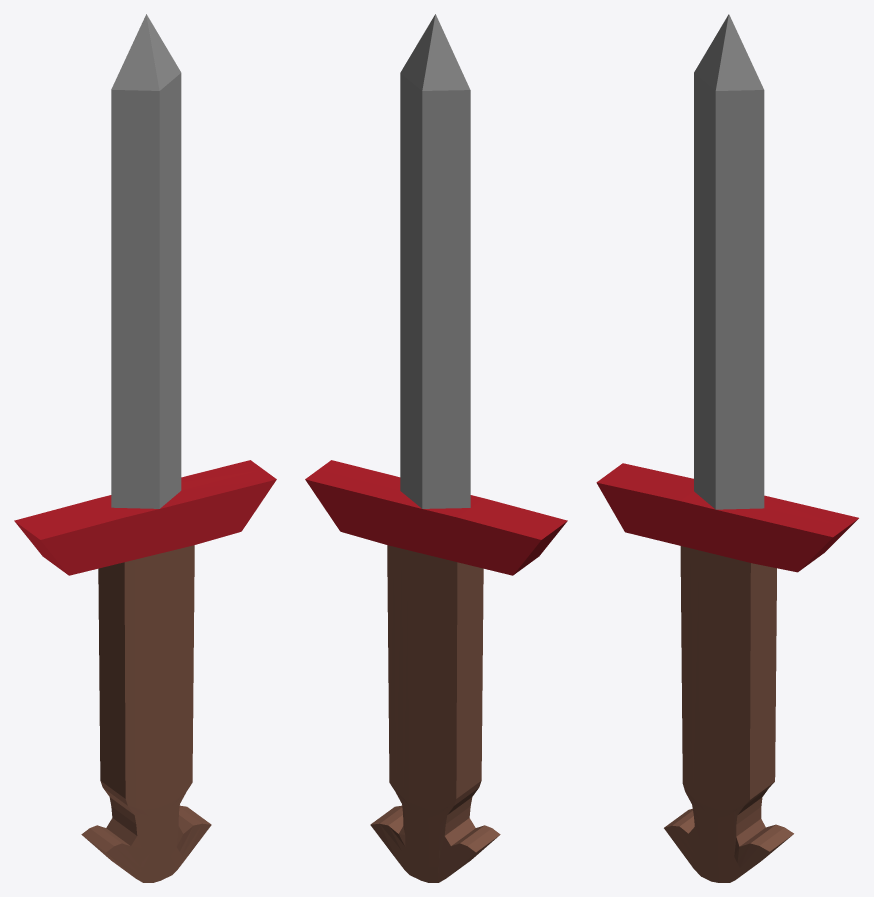
File: dagger.fbx
3 renders of one model, left to right at view 1: azimuth 30°, elevation 25°; view 2: azimuth 150°, elevation 25°; view 3: azimuth 330°, elevation 25°, orthographic.
Parts seen in each view (by area): view 1: pCube2; view 2: pCube2; view 3: pCube2.
Part boxes in pixels (x1,y1,x2,y2): pCube2: (14, 14, 276, 882); pCube2: (305, 14, 567, 882); pCube2: (596, 14, 858, 882).
Size of the model in its own units: 3.45 by 11.97 by 0.6688.
